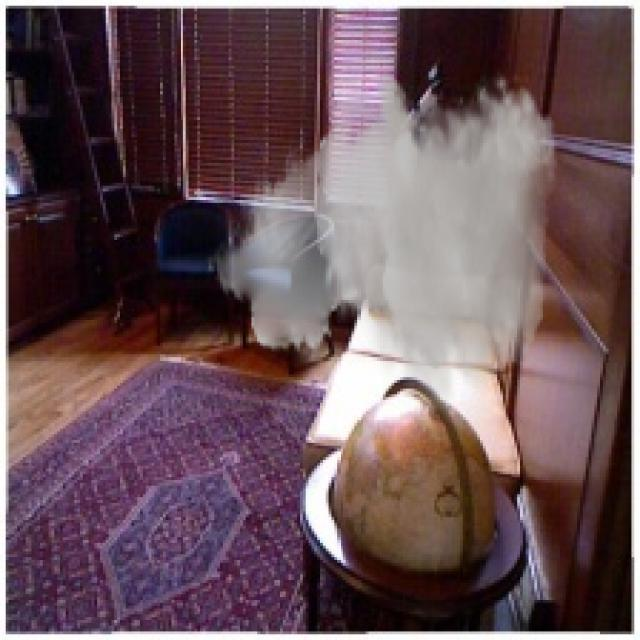Smoke: (205, 69, 558, 428)
